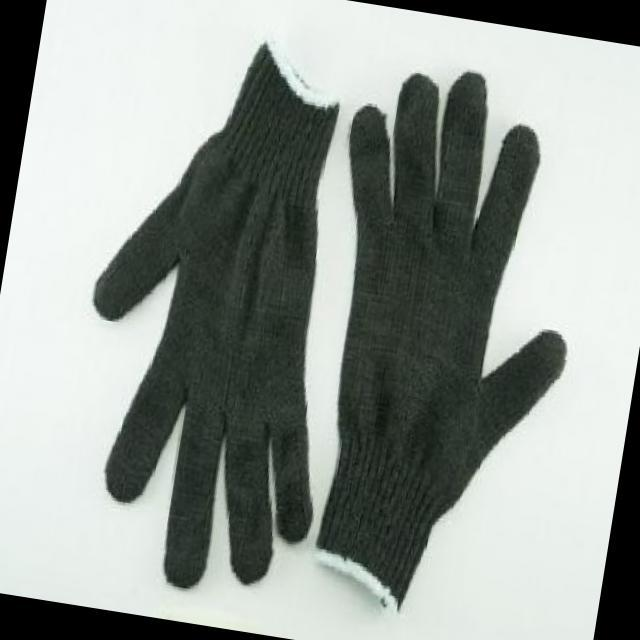glove: (312, 72, 568, 611), (96, 47, 346, 585)
